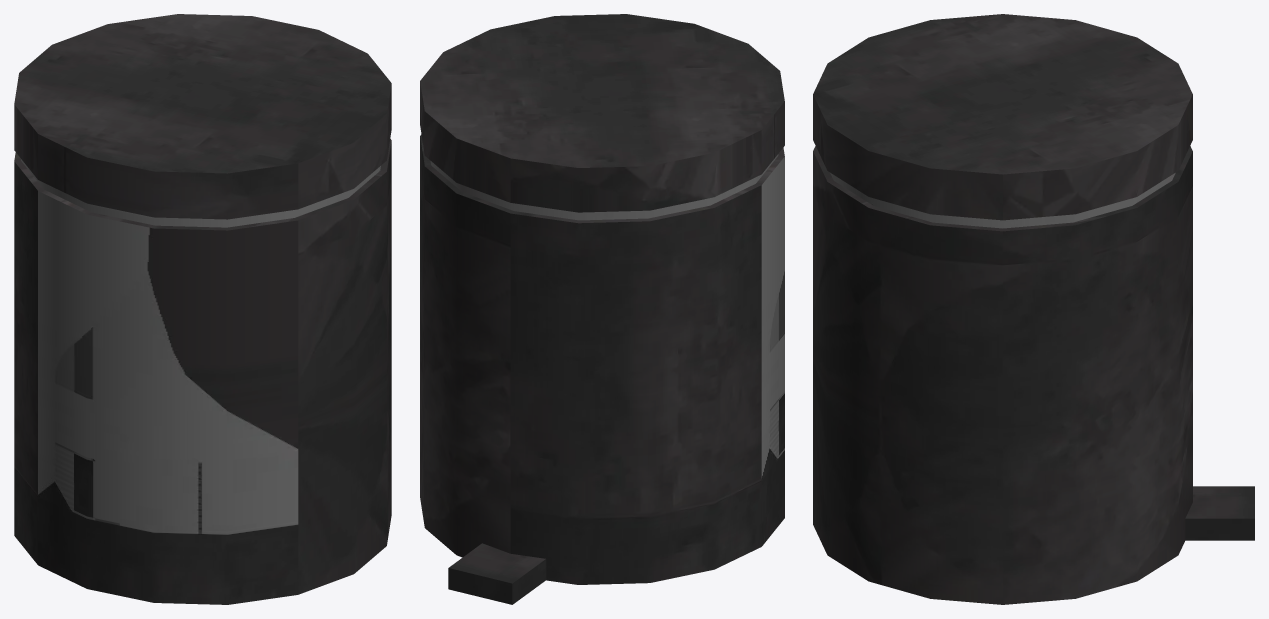
File: bin.glb
3 renders of one model, left to right at view 1: azimuth 30°, elevation 25°; view 2: azimuth 150°, elevation 25°; view 3: azimuth 270°, elevation 25°, orthographic. The views are drawn at different scales.
Parts seen in each view (by area): view 1: SM_ToiletBin_T_WC_Cop_0; view 2: SM_ToiletBin_T_WC_Cop_0; view 3: SM_ToiletBin_T_WC_Cop_0.
Boxes of the visible parts, x1,y1,x2,y2 form: SM_ToiletBin_T_WC_Cop_0: (14,14,391,604); SM_ToiletBin_T_WC_Cop_0: (420,14,784,604); SM_ToiletBin_T_WC_Cop_0: (813,14,1254,604).
Size of the model in its own units: 0.1999 by 0.25 by 0.2326.
Materials: 1 (1 with a texture image).
